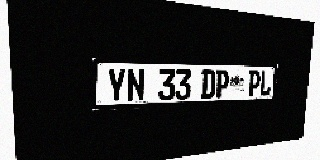3: (158, 69, 175, 101), (175, 69, 191, 100)
D: (201, 70, 216, 99)
L: (259, 70, 272, 96)
N: (127, 69, 145, 102)
P: (215, 70, 229, 98), (248, 70, 261, 97)
Y: (106, 68, 126, 103)
